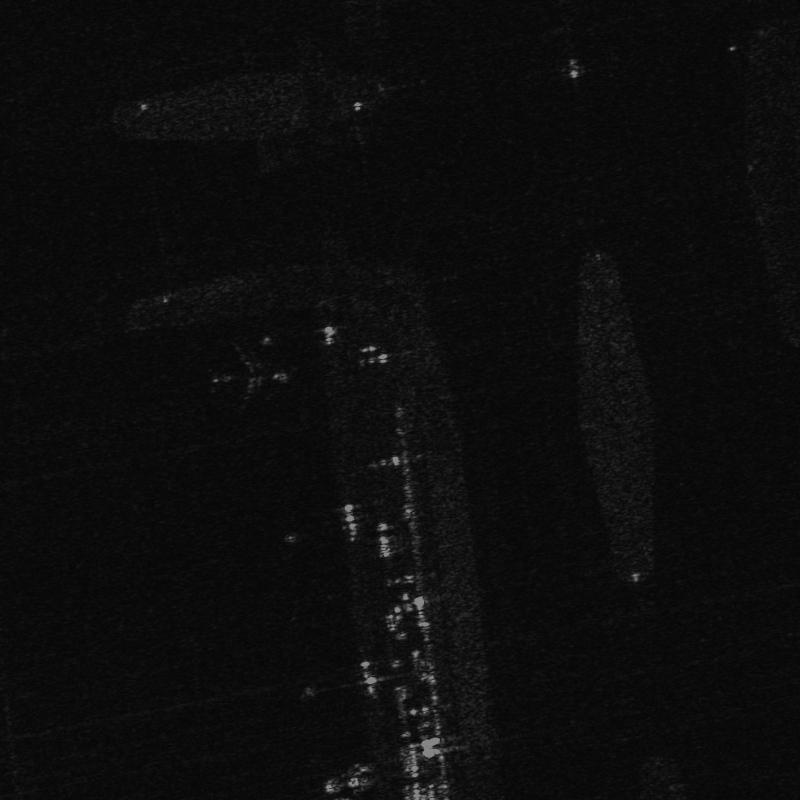Boeing737: (202, 342, 297, 418)
